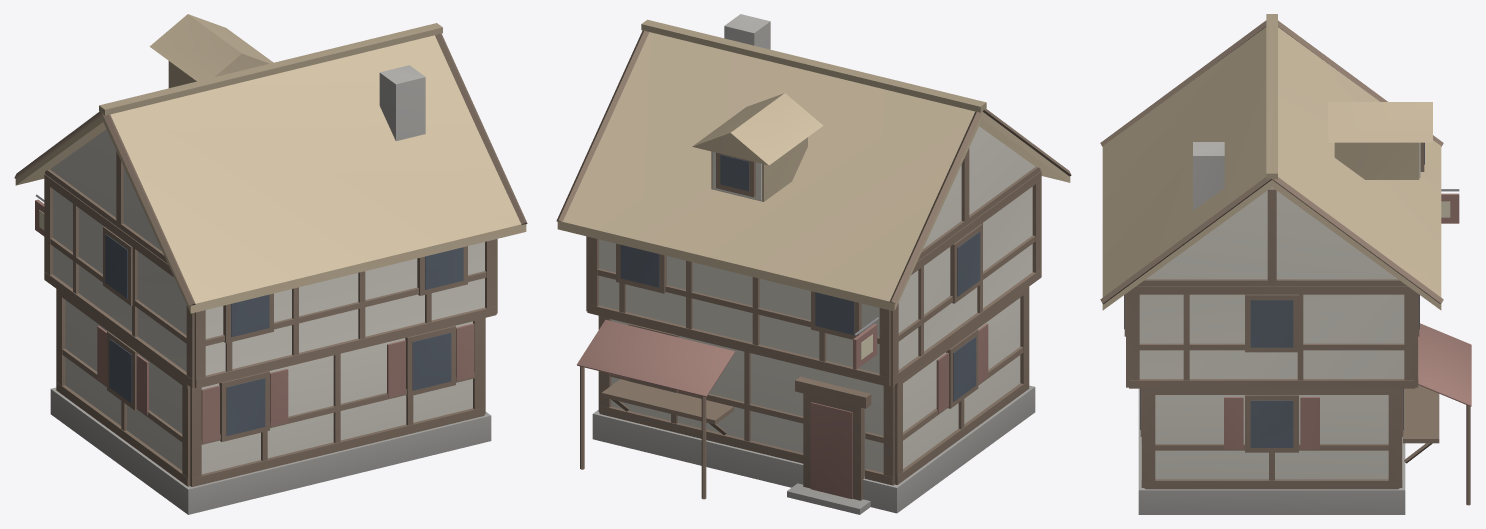
Rendered from shop_amber.gltf.
3 renders of one model, left to right at view 1: azimuth 30°, elevation 25°; view 2: azimuth 150°, elevation 25°; view 3: azimuth 270°, elevation 25°, orthographic. The views are drawn at different scales.
Parts seen in each view (by area): view 1: Body; view 2: Body; view 3: Body.
Boxes of the visible parts, x1,y1,x2,y2 form: Body: (14, 14, 527, 514); Body: (556, 14, 1071, 514); Body: (1100, 14, 1471, 514).
Size of the model in its own units: 8.37 by 8.54 by 8.23.
